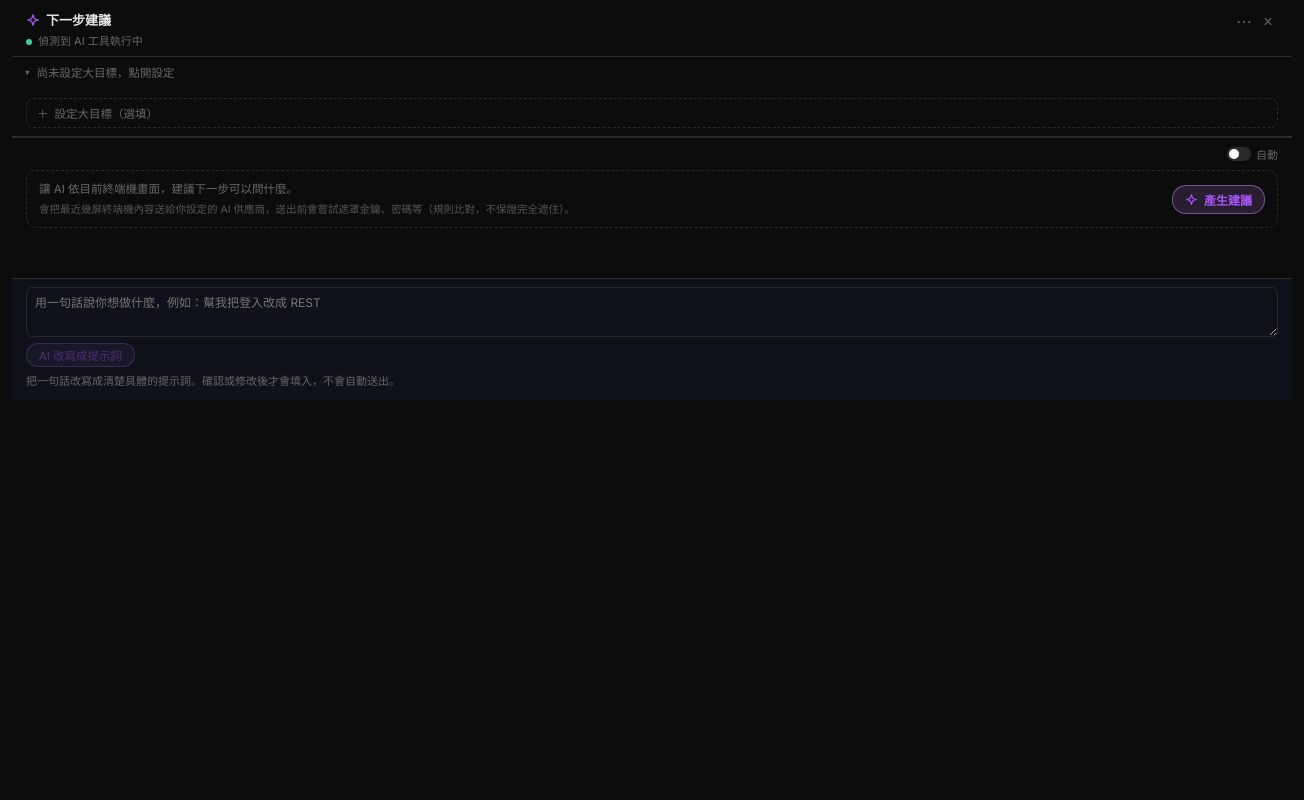
Scenario: SuggestionSidebar › custom AI tool list › is hidden until the menu is opened, then lists built-in and custom names
The image size is (1304, 800).
Expected: the text "指令名稱，例如 mytool" is not shown
Click the button named "自訂 AI 工具" at [1242, 22], box top-left (1230, 10), bottom-right (1254, 34)
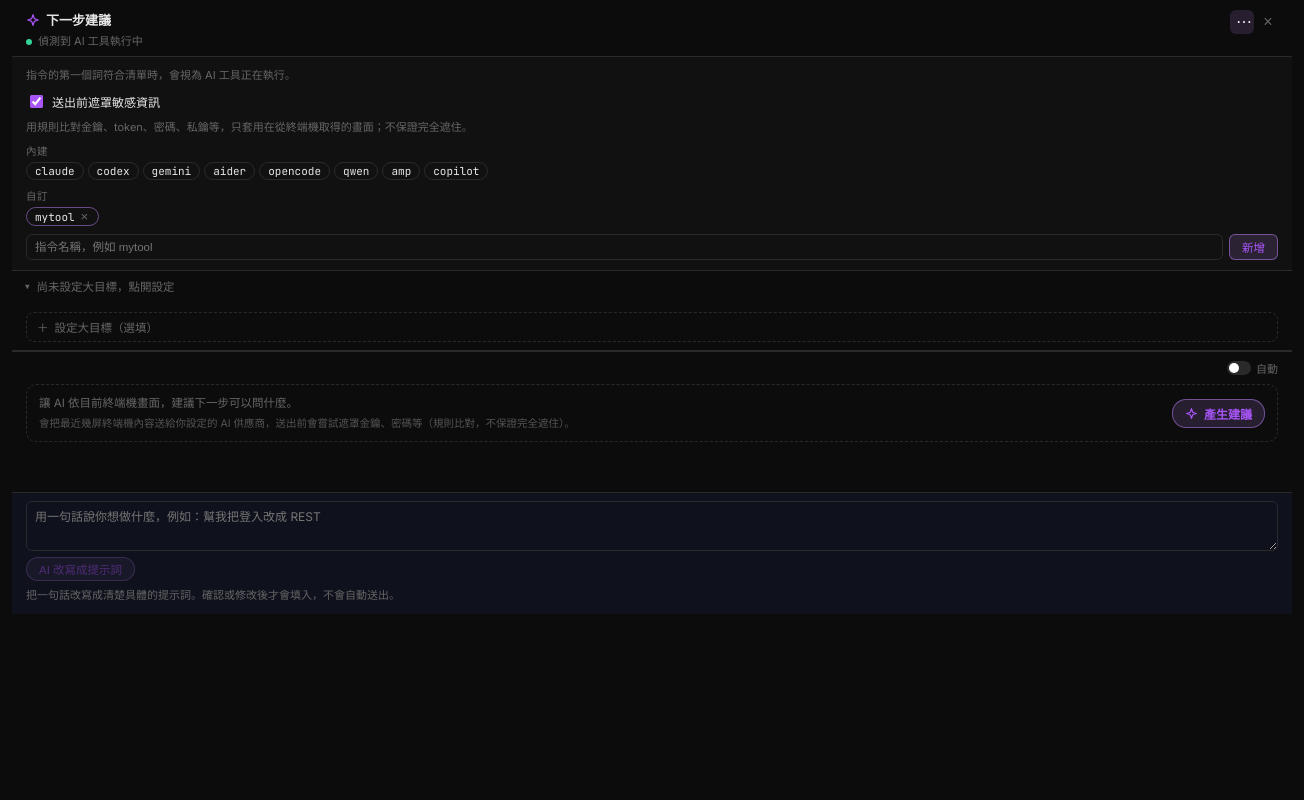
Expected: the list item "claude" is shown, top-left (26, 162), bottom-right (84, 180)
Expected: the list item "codex" is shown, top-left (88, 162), bottom-right (139, 180)
Expected: the text "mytool" is shown, top-left (35, 210), bottom-right (75, 224)
